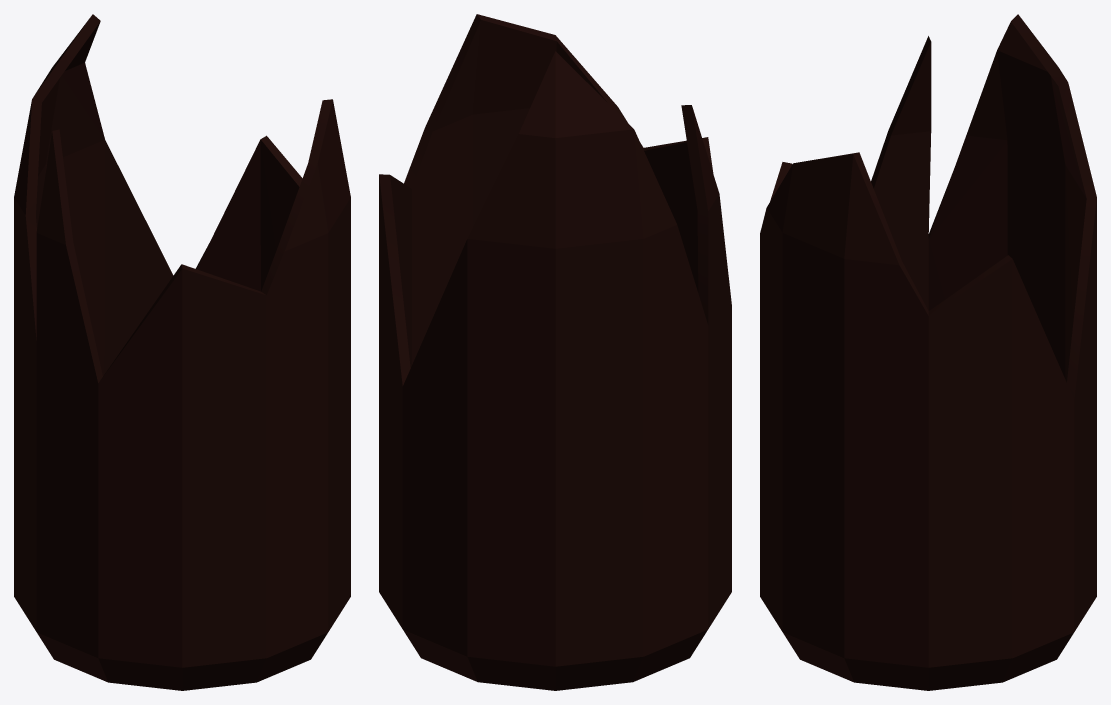
Rendered from bottle1broken1.fbx.
3 views of the same model, side by side, from view 1: azimuth 30°, elevation 25°; view 2: azimuth 150°, elevation 25°; view 3: azimuth 270°, elevation 25° (orthographic). The views are drawn at different scales.
Visible parts, largest first — view 1: bottle_broken1; view 2: bottle_broken1; view 3: bottle_broken1.
Boxes of the visible parts, bbox=[...] form: bottle_broken1: bbox=[14, 14, 350, 690]; bottle_broken1: bbox=[379, 14, 731, 690]; bottle_broken1: bbox=[760, 14, 1096, 690].
Size of the model in its own units: 16 by 31.04 by 16.
